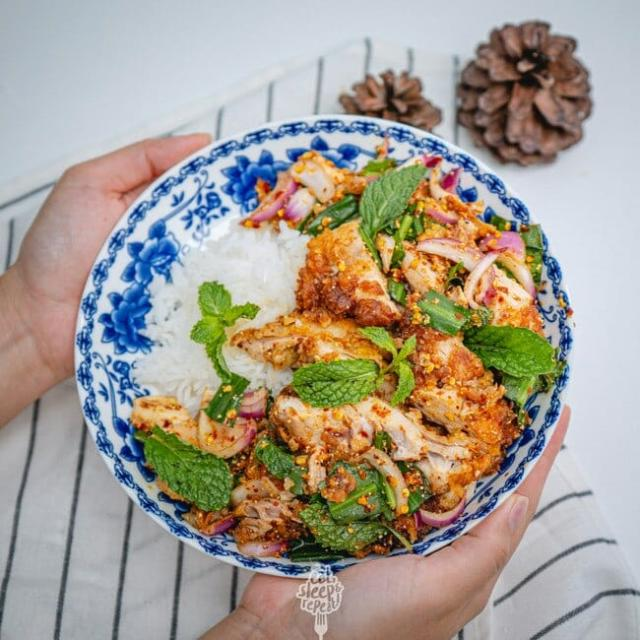carb: (134, 231, 302, 403)
meat: (319, 176, 533, 510)
spicy chicken rice salad: (144, 175, 527, 544)
vegetable: (324, 458, 424, 552), (140, 432, 240, 516), (474, 330, 565, 404), (295, 367, 401, 406), (377, 180, 411, 252)
